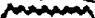Water: (2, 2, 94, 18)
